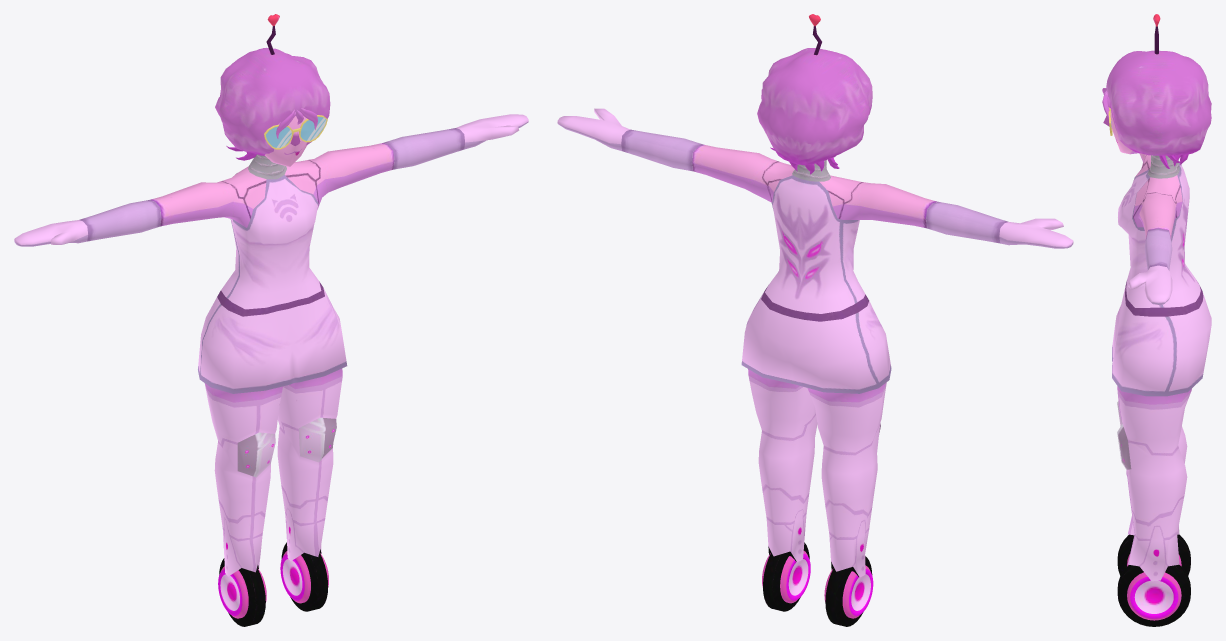
File: WiWi.glb
3 views of the same model, side by side, from view 1: azimuth 30°, elevation 25°; view 2: azimuth 150°, elevation 25°; view 3: azimuth 270°, elevation 25° (orthographic).
Visible parts, largest first — view 1: Wiwi; view 2: Wiwi; view 3: Wiwi.
Boxes of the visible parts, bbox=[...] form: Wiwi: bbox=[14, 14, 528, 626]; Wiwi: bbox=[557, 14, 1073, 626]; Wiwi: bbox=[1102, 14, 1211, 626].
Size of the model in its own units: 14.31 by 16.06 by 2.67.
1 material, 1 textured.
